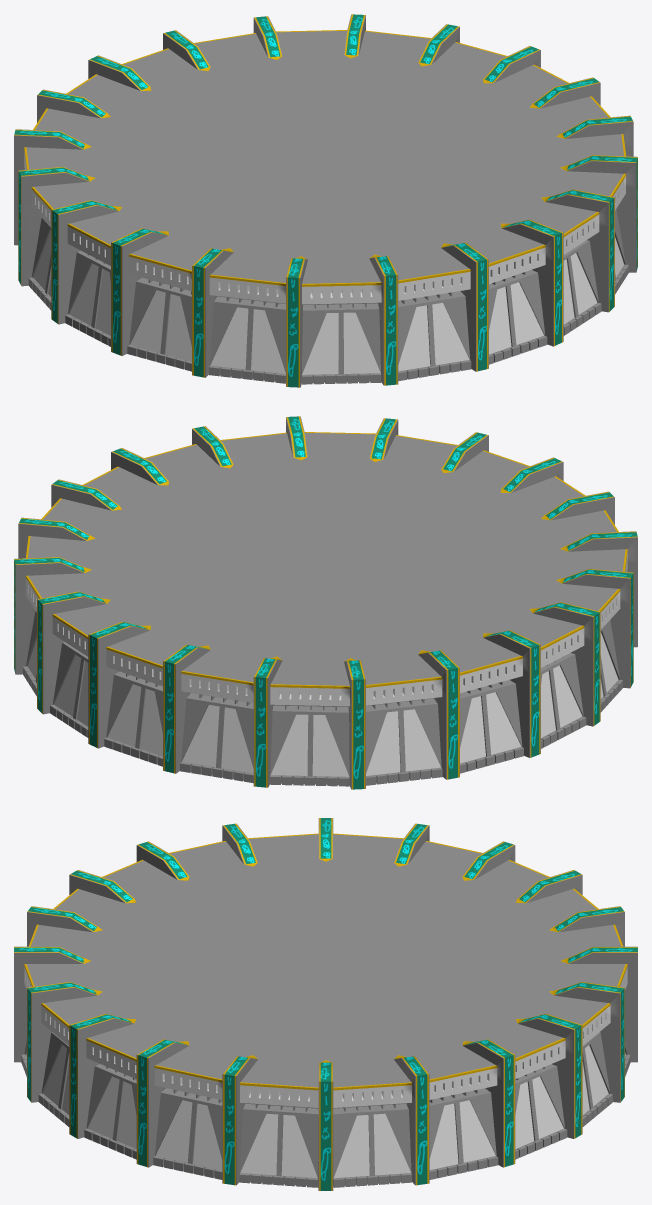
Rendered from SecondFloor.fbx.
The picture shows the model from 3 angles, top to bottom: view 1: azimuth 30°, elevation 25°; view 2: azimuth 150°, elevation 25°; view 3: azimuth 270°, elevation 25°; orthographic projection.
Parts seen in each view (by area): view 1: SecondFloor20; view 2: SecondFloor20; view 3: SecondFloor20.
Boxes of the visible parts, left/top/right/bottom form: SecondFloor20: left=14, top=14, right=637, bottom=387; SecondFloor20: left=14, top=416, right=637, bottom=789; SecondFloor20: left=14, top=818, right=637, bottom=1190.
Size of the model in its own units: 1138 by 220 by 1138.
